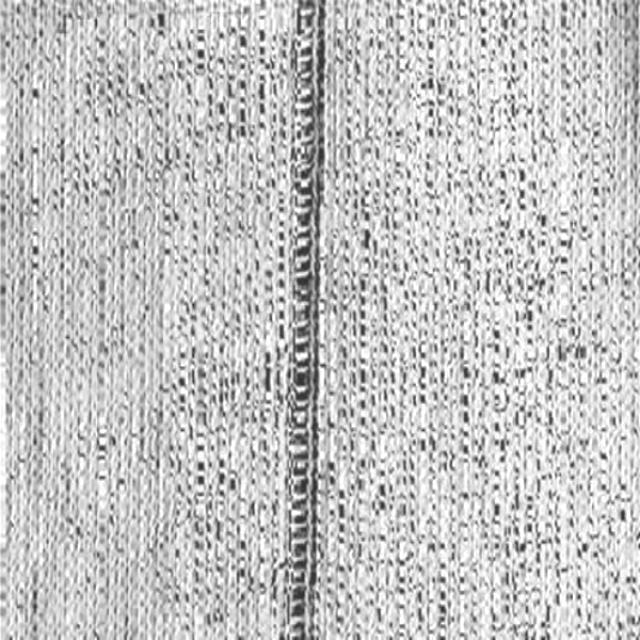stains: (143, 3, 453, 640)
